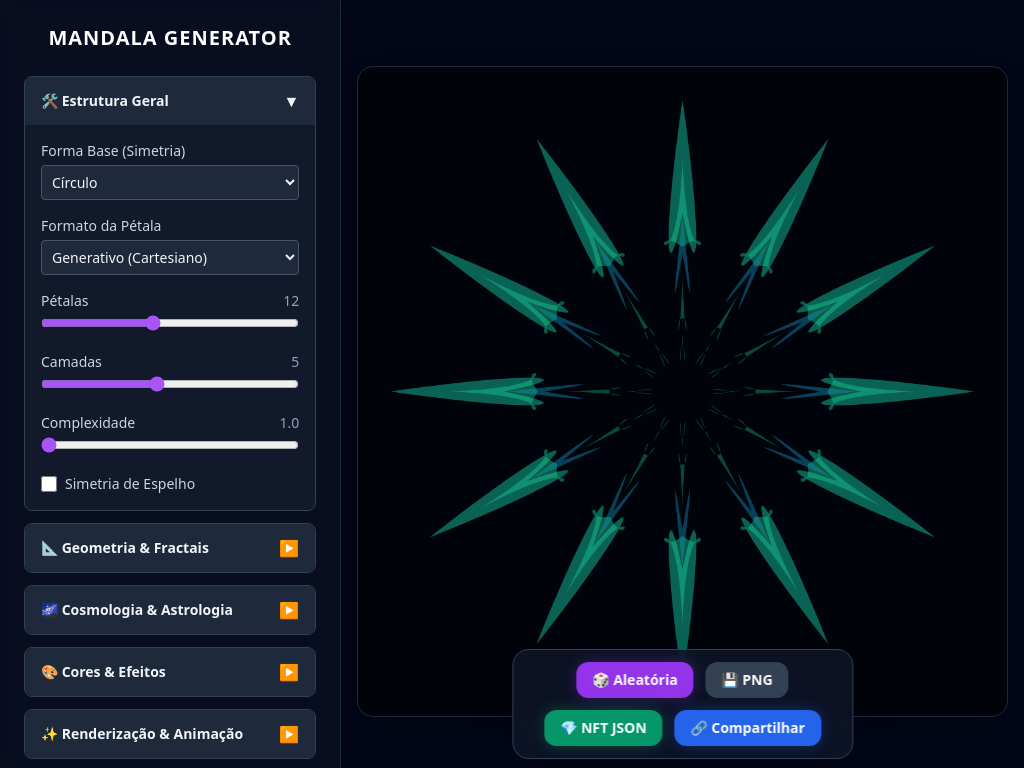
MandalaGenerator › snaps petal count to Fibonacci numbers when mode is enabled
Note: Set petals to 10 (not Fibonacci)
Set the slider labelled "Pétalas" to "10" at (130, 323), box [41,315,299,331]
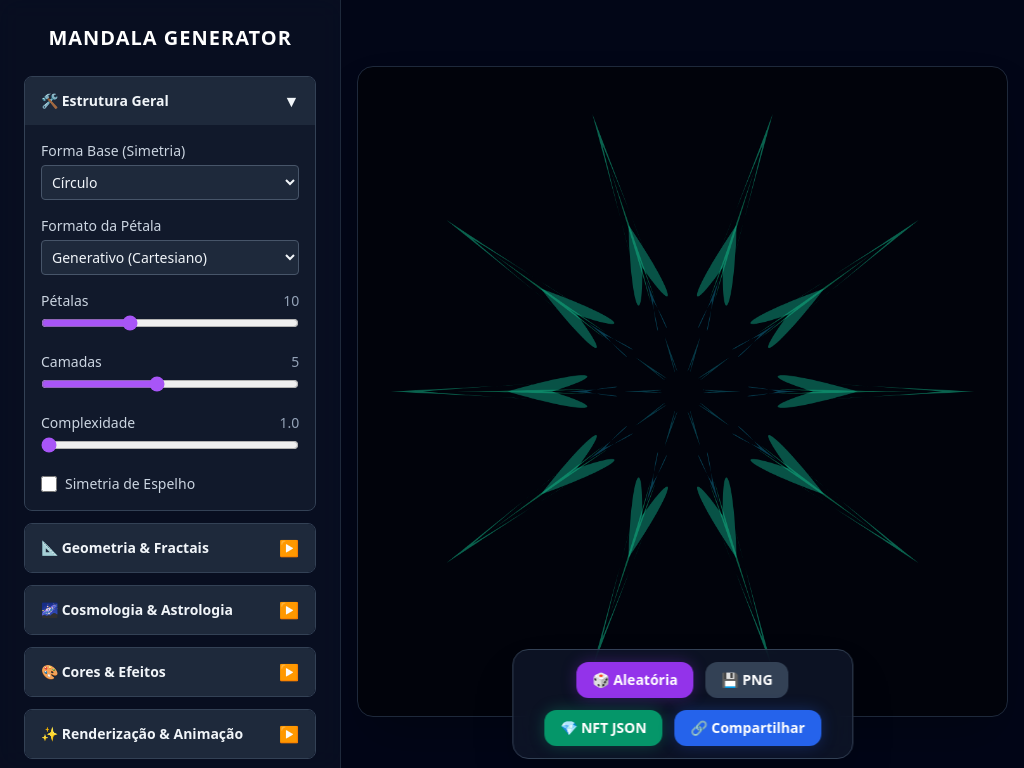
Note: Open the geometry accordion
Click the text "📐 Geometria & Fractais" at (125, 548), box [41,538,209,558]
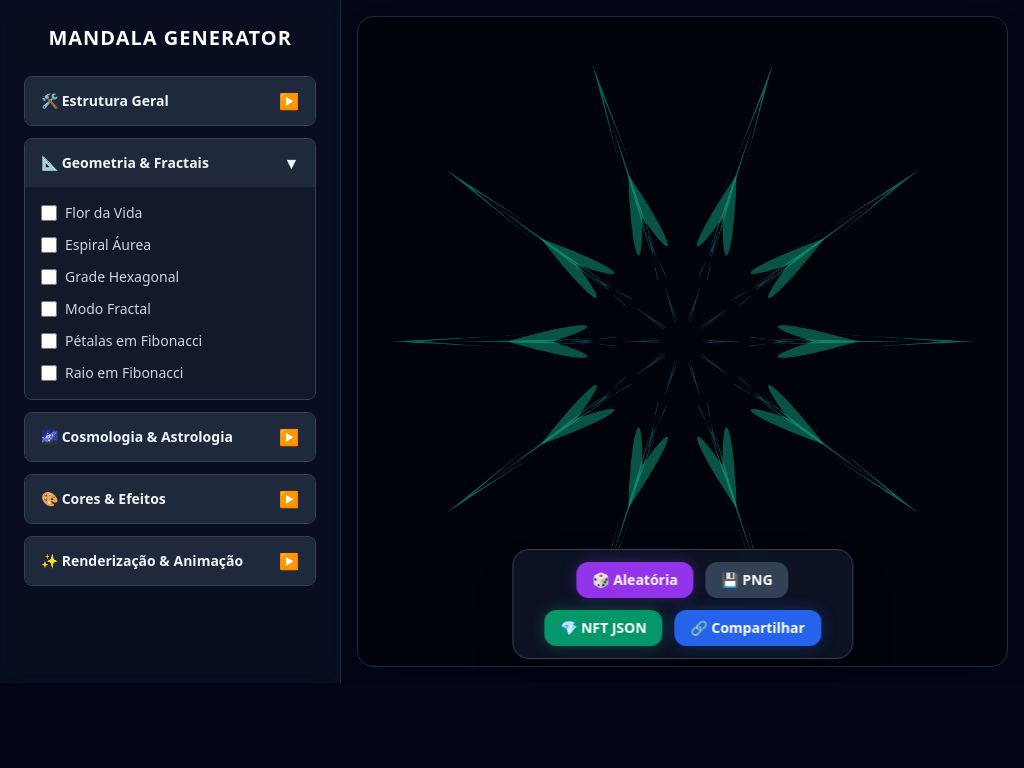
Note: Enable Fibonacci mode
Click the checkbox labelled "Pétalas em Fibonacci" at (49, 341), box [41,333,57,349]
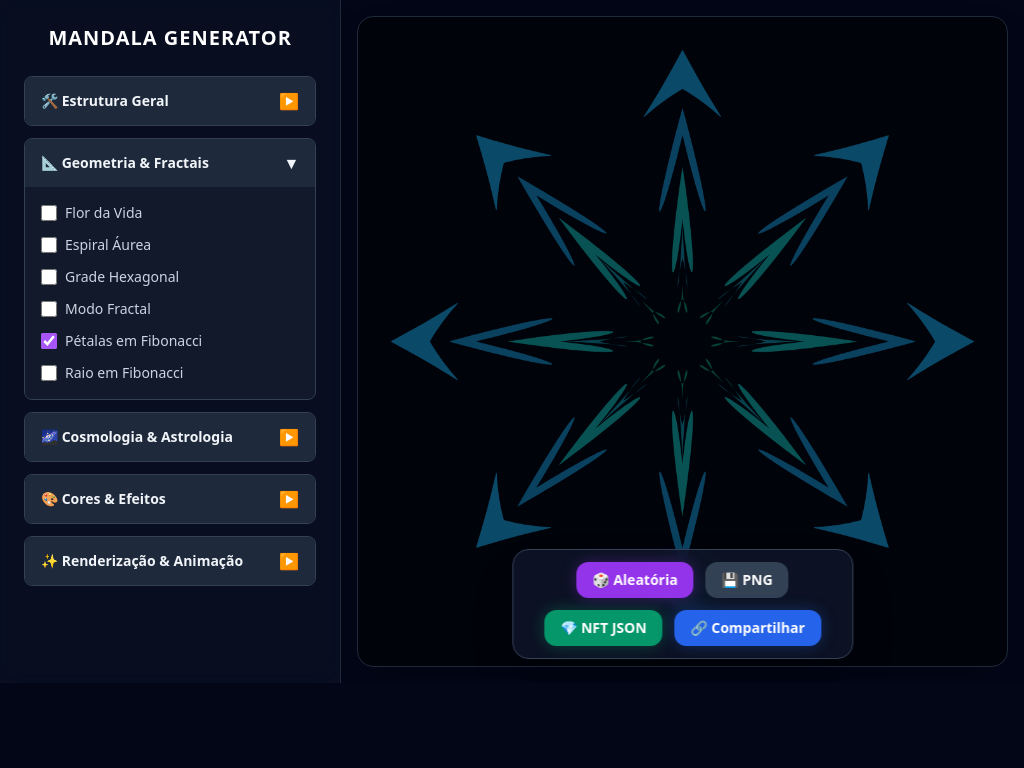
Note: We need to switch back to the "estrutura" accordion to see the value
Click the text "🛠️ Estrutura Geral" at (105, 101), box [41,91,169,111]
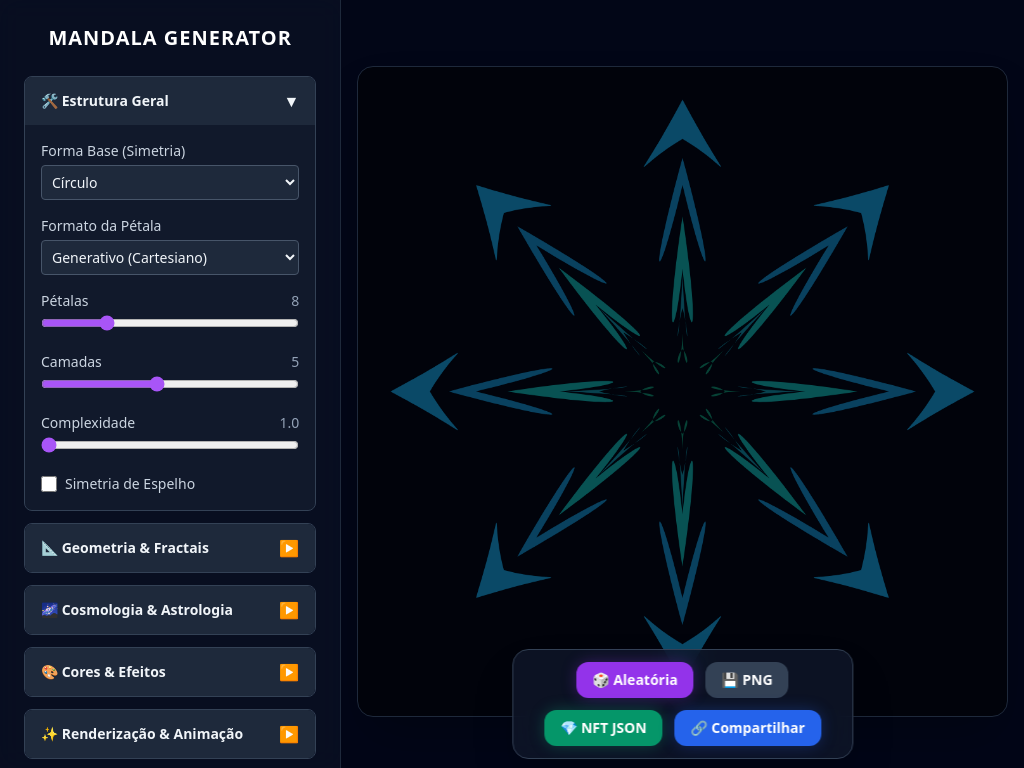
Check: the text "8" is shown, box [291,291,299,311]
